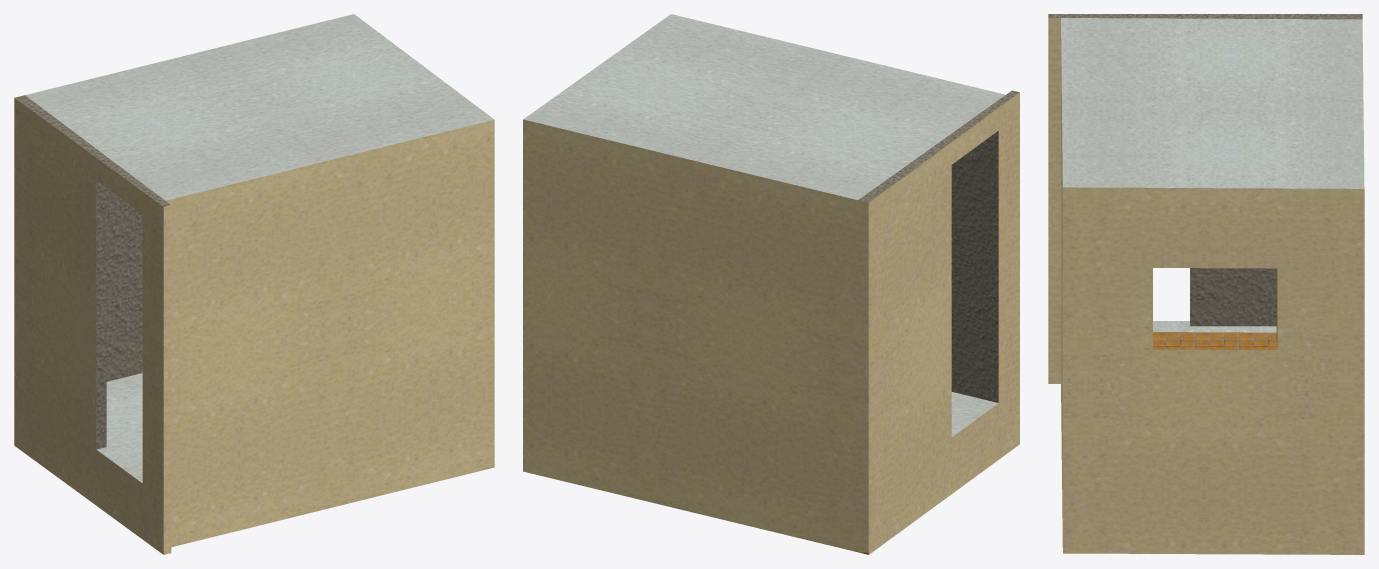
File: cave2_rdc.obj
3 views of the same model, side by side, from view 1: azimuth 30°, elevation 25°; view 2: azimuth 150°, elevation 25°; view 3: azimuth 270°, elevation 25° (orthographic). The views are drawn at different scales.
Visible parts, largest first — view 1: Cave2_RDC_Cube.037; view 2: Cave2_RDC_Cube.037; view 3: Cave2_RDC_Cube.037.
Boxes of the visible parts, x1,y1,x2,y2 form: Cave2_RDC_Cube.037: (14, 14, 494, 554); Cave2_RDC_Cube.037: (523, 14, 1019, 554); Cave2_RDC_Cube.037: (1048, 14, 1364, 554).
Bounding box in the file's own units: 3.18 × 3.1 × 2.43.
